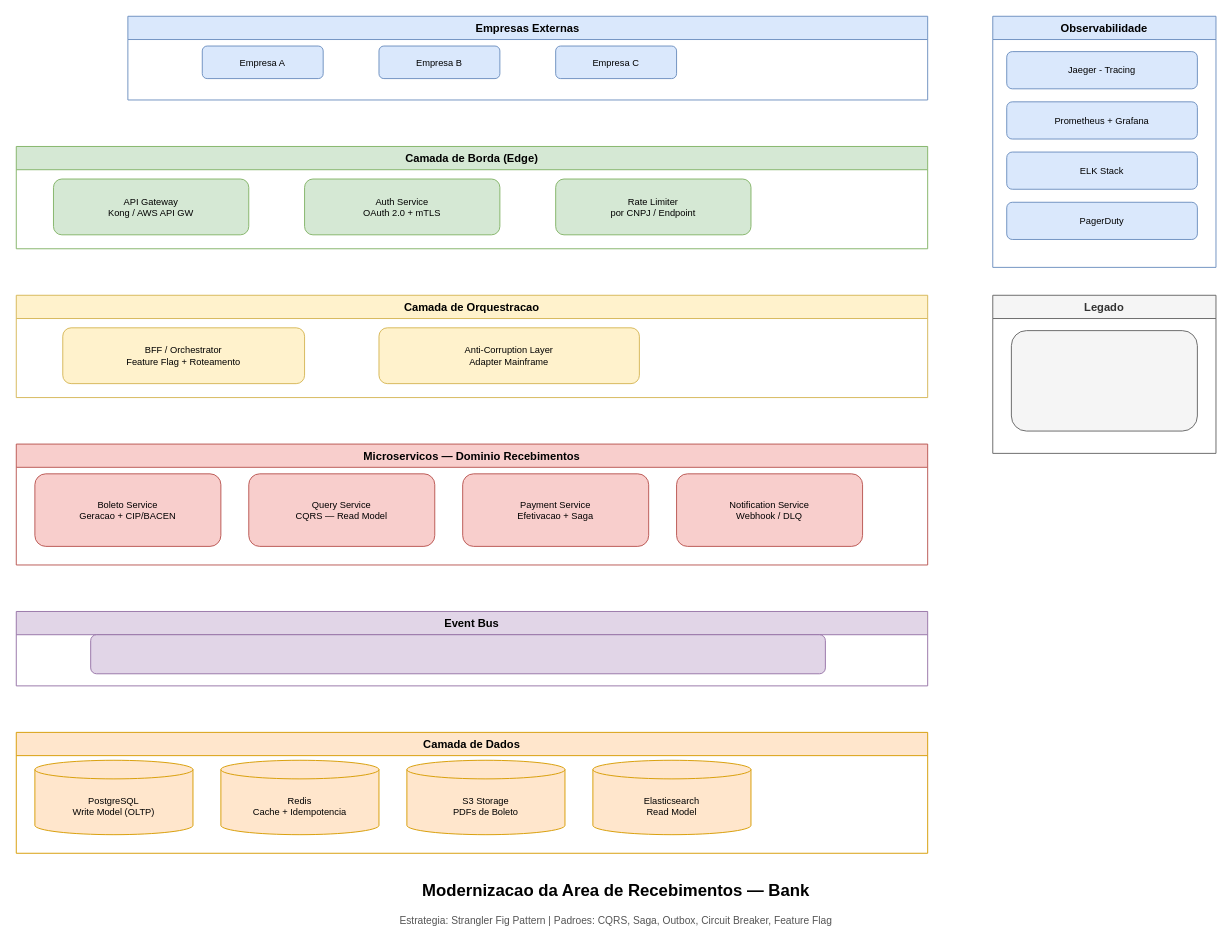
The diagram is 1232 pixels wide and 949 high, and some of its shapes have lost their labels. The shapes that lost their labels are listed below. From the top down, each one's centre as x and y in pixels, then its label:
At (x=1103, y=380): "Mainframe COBOL Sistema Atual Fallback migração".
At (x=457, y=654): "Apache Kafka - Topics: boleto.gerado | pagamento.efetivado | notificacao.enviada".
